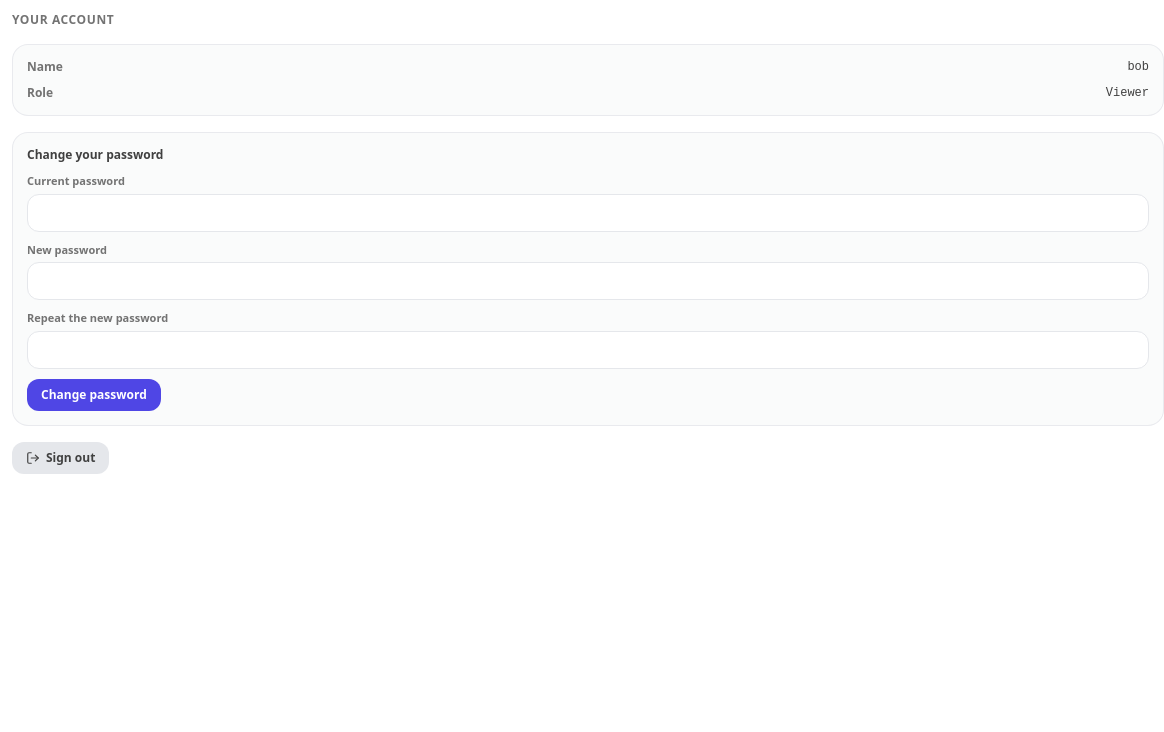
Test: AccountSection › checks before asking the server › blocks the request when the new password is too short
In the password field labelled "Current password": (588, 212) top-left (27, 194), bottom-right (1149, 232), type "old-pass-1"
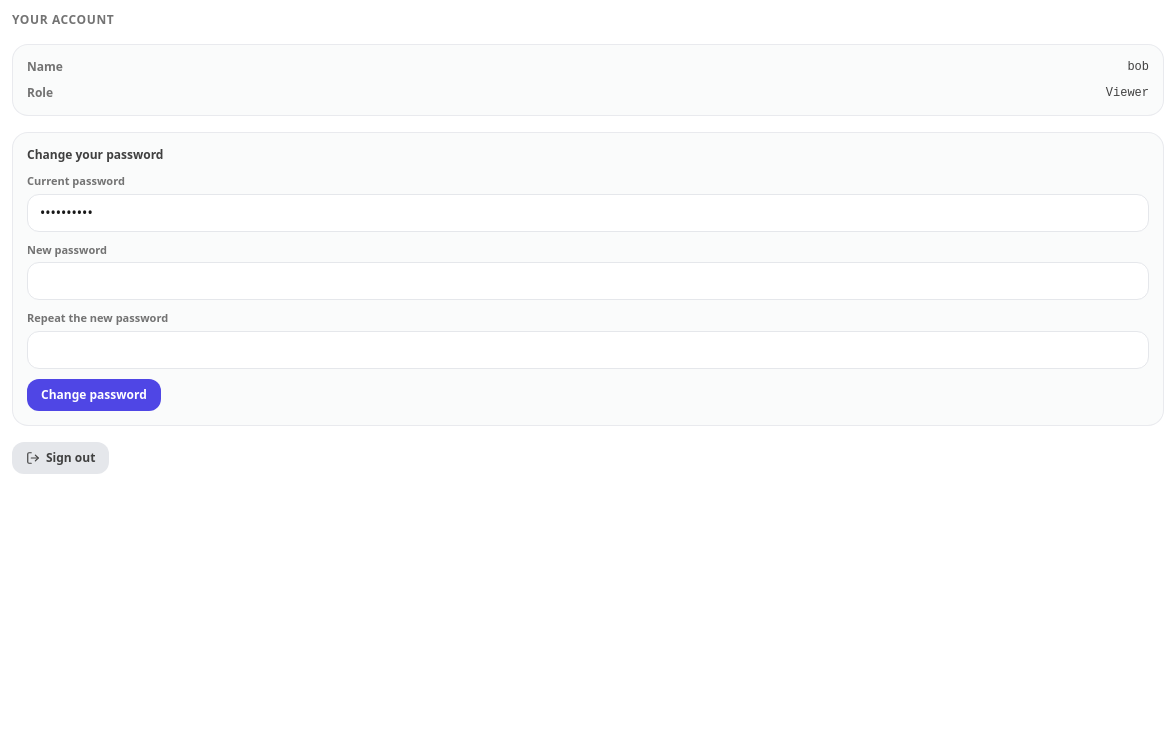
In the password field labelled "New password": (588, 281) top-left (27, 262), bottom-right (1149, 300), type "short"
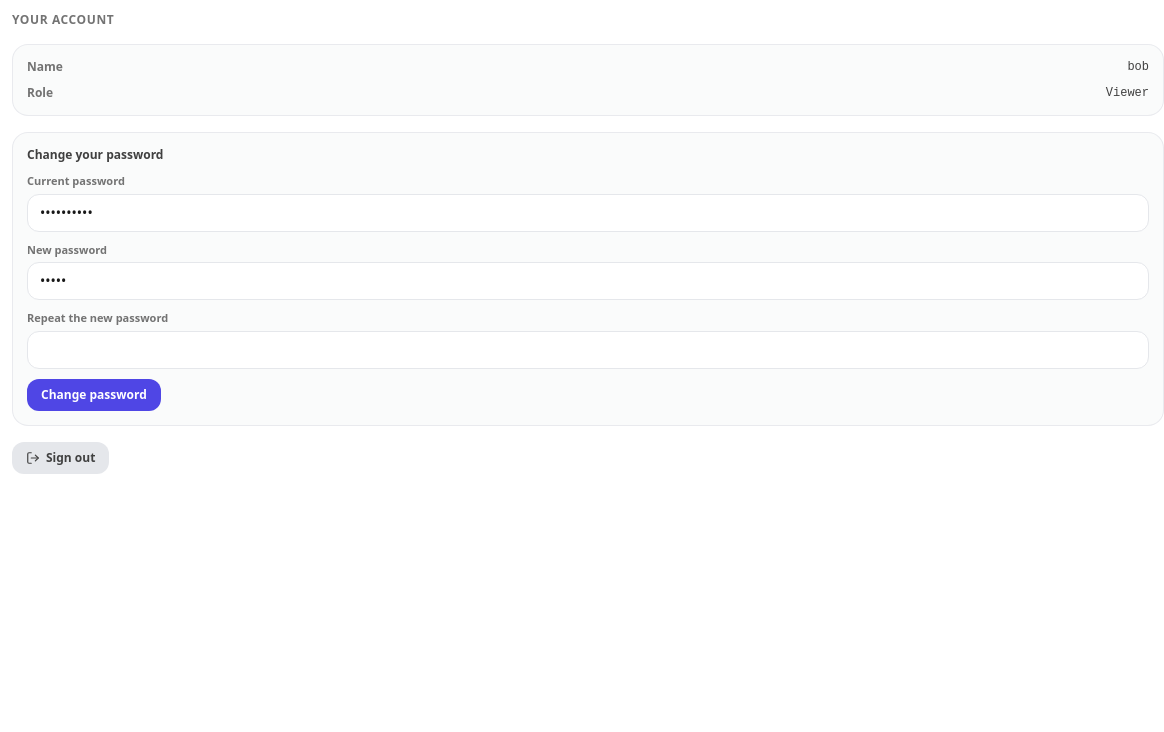
In the password field labelled "Repeat the new password": (588, 350) top-left (27, 330), bottom-right (1149, 368), type "short"
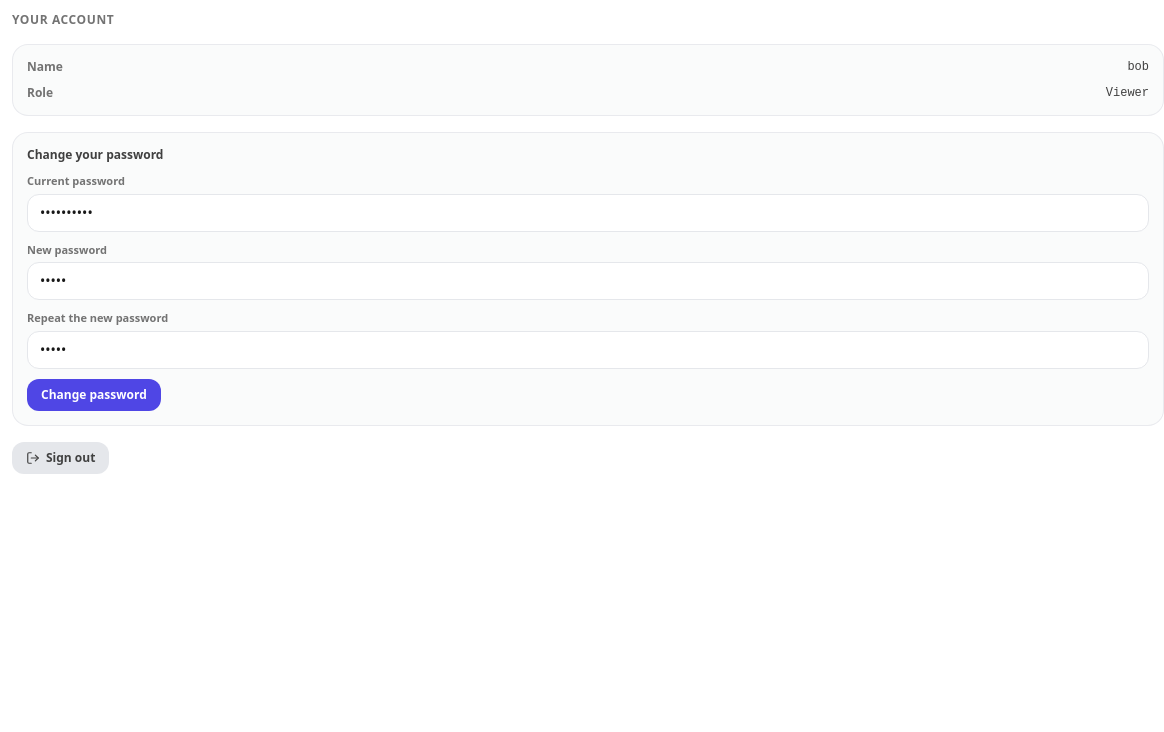
Click the button "Change password": (94, 394) top-left (27, 378), bottom-right (161, 410)
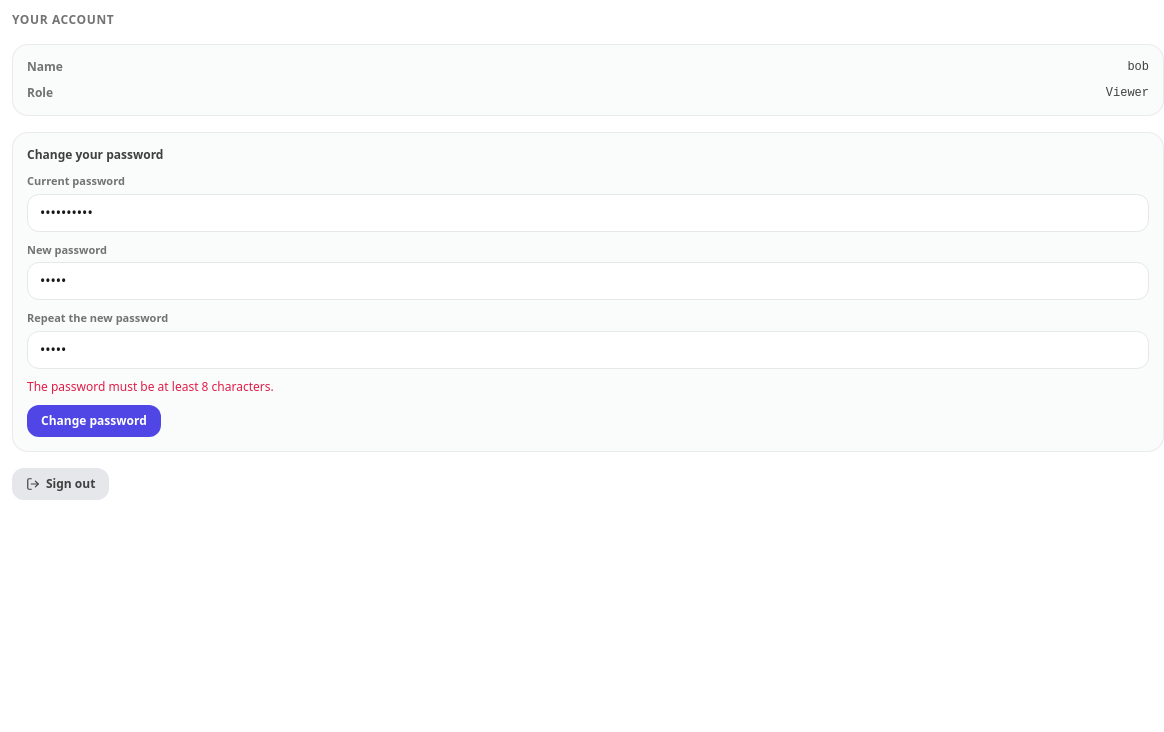
Expected: the message reads "The password must be at least 8 characters.", top-left (27, 378), bottom-right (274, 394)
